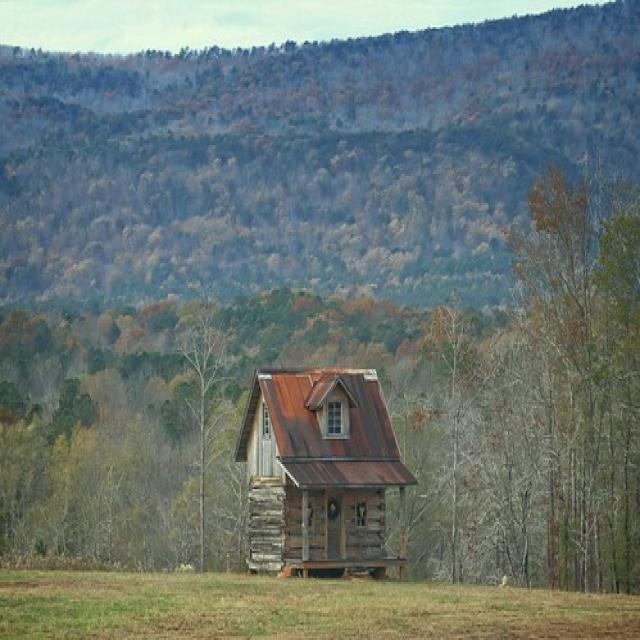building: (231, 360, 415, 584)
